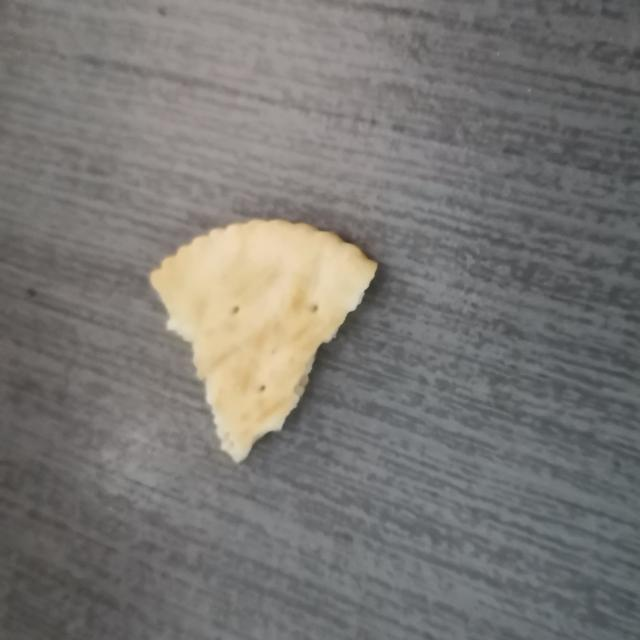Broken: (149, 216, 379, 464)
